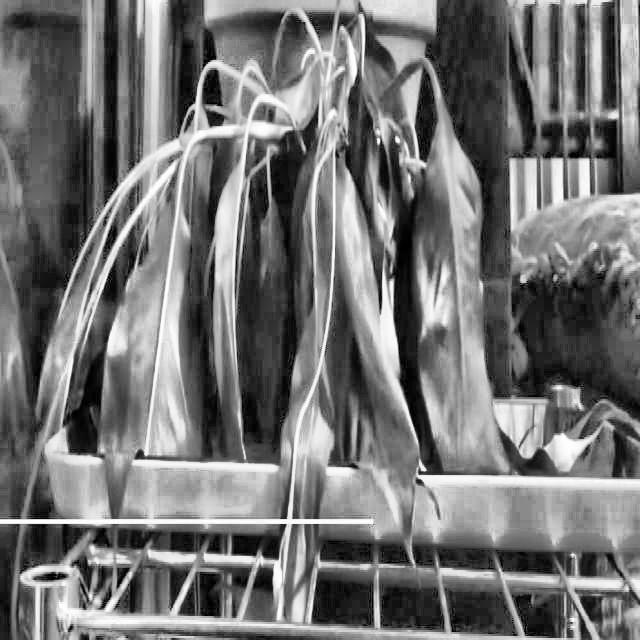plants: (2, 3, 628, 616)
